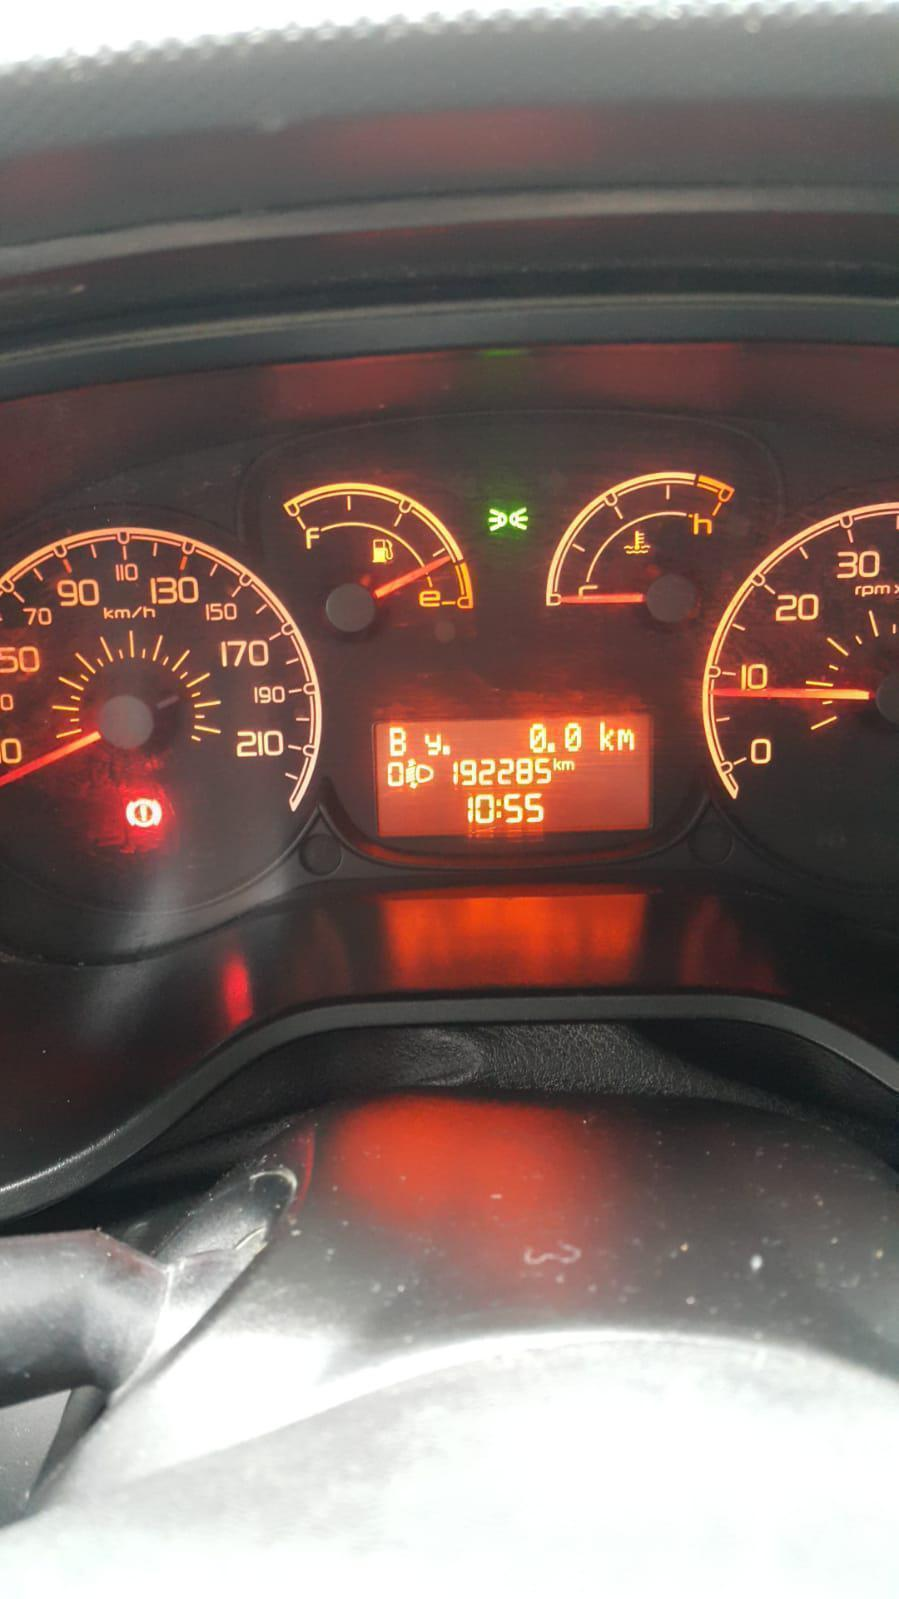,: (547, 741, 555, 752), (442, 743, 451, 754)
0: (474, 793, 494, 823), (564, 722, 582, 752), (529, 722, 546, 753), (386, 761, 403, 786)
1: (467, 796, 474, 824), (452, 760, 459, 785)
2: (477, 758, 495, 786), (497, 758, 514, 785)
5: (524, 792, 546, 821), (502, 793, 522, 823), (533, 758, 552, 784)
8: (515, 758, 533, 784)
9: (459, 759, 476, 786)
X: (389, 727, 406, 757), (598, 722, 614, 752), (616, 727, 634, 751), (424, 733, 442, 756), (561, 759, 574, 770), (495, 798, 502, 819), (553, 757, 561, 771)
odometer: (370, 711, 661, 840)
